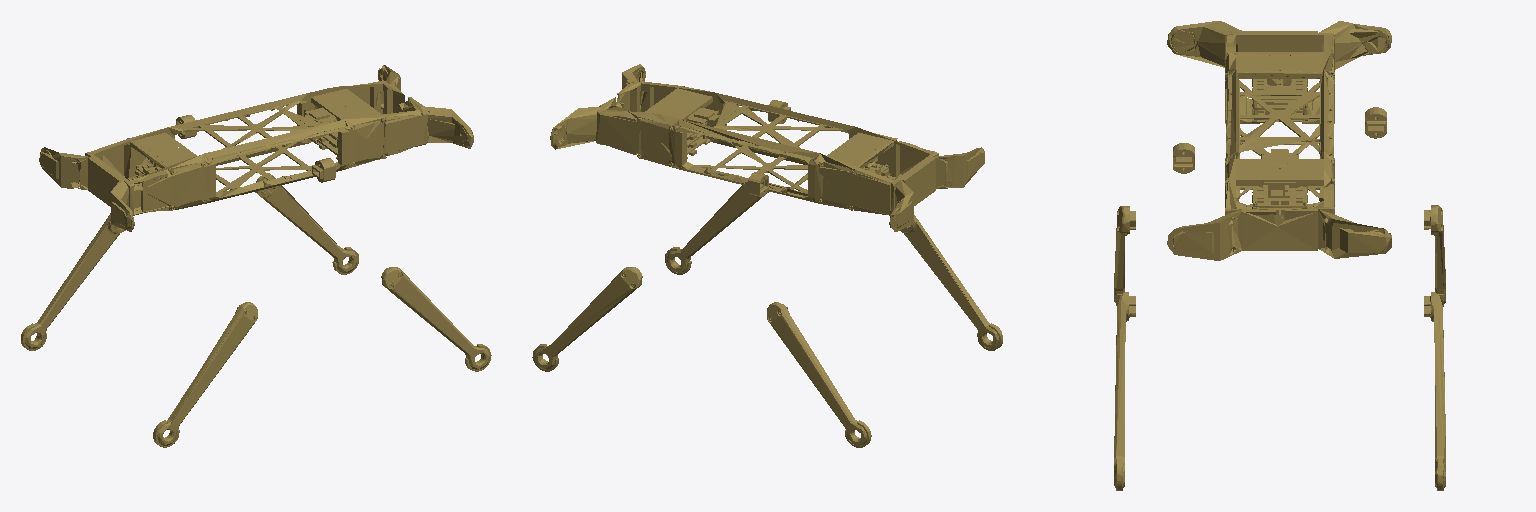
The robot description file, URDF, robot "od":
<?xml version="1.0"?>
<!-- created with Phobos 1.0.1 "Capricious Choutengan" -->
  <robot name="od">

    <link name="link_hip_a">
      <inertial>
        <origin xyz="0 0 0" rpy="0 0 0"/>
        <mass value="0.15"/>
        <inertia ixx="4e-05" ixy="0" ixz="0" iyy="0.00041" iyz="0" izz="0.00041"/>
      </inertial>
      <visual name="visual_Hip_Fe_Module_A">
        <origin xyz="0 0 0" rpy="0 0 0"/>
        <geometry>
          <mesh filename="HipFeModuleA.dae" scale="1.0 1.0 1.0"/>
        </geometry>
        <material name="Material"/>
      </visual>
      <collision name="collision_hip_a">
        <origin xyz="0 0 0" rpy="0 0 0"/>
        <geometry>
          <box size="0.1759 0.0389 0.04438"/>
        </geometry>
      </collision>
    </link>

    <link name="link_hip_b">
      <inertial>
        <origin xyz="0 0 0" rpy="0 0 0"/>
        <mass value="0.15"/>
        <inertia ixx="4e-05" ixy="0" ixz="0" iyy="0.00053" iyz="0" izz="0.00052"/>
      </inertial>
      <visual name="visual_Hip_Adapter_B">
        <origin xyz="0 0 0" rpy="0 0 0"/>
        <geometry>
          <mesh filename="HipAdapterB.dae" scale="1.0 1.0 1.0"/>
        </geometry>
        <material name="Material"/>
      </visual>
      <visual name="visual_Hip_Fe_Module_B">
        <origin xyz="0 0 0" rpy="0 0 0"/>
        <geometry>
          <mesh filename="HipFeModuleB.dae" scale="1.0 1.0 1.0"/>
        </geometry>
        <material name="Material"/>
      </visual>
      <collision name="Hip Fe Module B">
        <origin xyz="0 0 0" rpy="0 0 0"/>
        <geometry>
          <box size="0.201 0.0389 0.04438"/>
        </geometry>
      </collision>
    </link>

    <link name="link_hip_c">
      <inertial>
        <origin xyz="0 0 0" rpy="0 0 0"/>
        <mass value="0.15"/>
        <inertia ixx="4e-05" ixy="0" ixz="0" iyy="0.00053" iyz="0" izz="0.00052"/>
      </inertial>
      <visual name="visual_HipFeModuleC">
        <origin xyz="0 0 0" rpy="0 0 0"/>
        <geometry>
          <mesh filename="HipFeModuleC.dae" scale="1.0 1.0 1.0"/>
        </geometry>
        <material name="Material"/>
      </visual>
      <visual name="visual_Hip_Adapter_C">
        <origin xyz="0 0 0" rpy="0 0 0"/>
        <geometry>
          <mesh filename="HipAdapterC.dae" scale="1.0 1.0 1.0"/>
        </geometry>
        <material name="Material"/>
      </visual>
      <collision name="Hip Fe Module B">
        <origin xyz="0 0 0" rpy="0 0 0"/>
        <geometry>
          <box size="0.201 0.0389 0.04438"/>
        </geometry>
      </collision>
    </link>

    <link name="link_hip_d">
      <inertial>
        <origin xyz="0 0 0" rpy="0 0 0"/>
        <mass value="0.15"/>
        <inertia ixx="4e-05" ixy="0" ixz="0" iyy="0.00041" iyz="0" izz="0.00041"/>
      </inertial>
      <visual name="visual_Hip_Fe_Module_D">
        <origin xyz="0 0 0" rpy="0 0 0"/>
        <geometry>
          <mesh filename="HipFeModuleD.dae" scale="1.0 1.0 1.0"/>
        </geometry>
        <material name="Material"/>
      </visual>
      <collision name="Hip Fe Module A">
        <origin xyz="0 0 0" rpy="0 0 0"/>
        <geometry>
          <box size="0.1759 0.0389 0.04438"/>
        </geometry>
      </collision>
    </link>

    <link name="link_l_leg_a">
      <inertial>
        <origin xyz="0 0 0" rpy="0 0 0"/>
        <mass value="0.02"/>
        <inertia ixx="4e-05" ixy="0" ixz="0" iyy="6e-05" iyz="0" izz="3e-05"/>
      </inertial>
      <visual name="visual_Lower_Leg_A">
        <origin xyz="0.09277 0.14695 0.12354" rpy="0 0 0"/>
        <geometry>
          <mesh filename="visual_Lower_Leg_A.dae" scale="1.0 1.0 1.0"/>
        </geometry>
        <material name="Material"/>
      </visual>
      <collision name="collision_Cyl_link_l_leg_a">
        <origin xyz="0 0 0" rpy="0 0 0"/>
        <geometry>
          <cylinder radius="0.0165" length="0.033"/>
        </geometry>
      </collision>
      <collision name="collision_Lower_Leg">
        <origin xyz="0.09277 0.14695 0.12354" rpy="0 0 0"/>
        <geometry>
          <mesh filename="col_Lower_Leg_A.dae" scale="1.0 1.0 1.0"/>
        </geometry>
      </collision>
    </link>

    <link name="link_l_leg_b">
      <inertial>
        <origin xyz="0 0 0" rpy="0 0 0"/>
        <mass value="0.02"/>
        <inertia ixx="4e-05" ixy="0" ixz="0" iyy="6e-05" iyz="0" izz="3e-05"/>
      </inertial>
      <visual name="visual_Lower_Leg_B">
        <origin xyz="0 0 0" rpy="0 0 0"/>
        <geometry>
          <mesh filename="LowerLegB.dae" scale="1.0 1.0 1.0"/>
        </geometry>
        <material name="Material"/>
      </visual>
      <collision name="Cylinder">
        <origin xyz="0 0 0" rpy="0 0 0"/>
        <geometry>
          <cylinder radius="0.0165" length="0.033"/>
        </geometry>
      </collision>
      <collision name="collision_Lower_Leg_B">
        <origin xyz="0 0 0" rpy="0 0 0"/>
        <geometry>
          <mesh filename="col_LowerLegB.dae" scale="1.0 1.0 1.0"/>
        </geometry>
      </collision>
    </link>

    <link name="link_l_leg_c">
      <inertial>
        <origin xyz="0 0 0" rpy="0 0 0"/>
        <mass value="0.02"/>
        <inertia ixx="4e-05" ixy="0" ixz="0" iyy="6e-05" iyz="0" izz="3e-05"/>
      </inertial>
      <visual name="visual_Lower_Leg_C">
        <origin xyz="0 0 0" rpy="0 0 0"/>
        <geometry>
          <mesh filename="LowerLegC.dae" scale="1.0 1.0 1.0"/>
        </geometry>
        <material name="Material"/>
      </visual>
      <collision name="collision_Cylinder.003">
        <origin xyz="0 0 0" rpy="0 0 0"/>
        <geometry>
          <cylinder radius="0.0165" length="0.033"/>
        </geometry>
      </collision>
      <collision name="collision_Lower_Leg_C">
        <origin xyz="0 0 0" rpy="0 0 0"/>
        <geometry>
          <mesh filename="col_LowerLegC.dae" scale="1.0 1.0 1.0"/>
        </geometry>
      </collision>
    </link>

    <link name="link_l_leg_d">
      <inertial>
        <origin xyz="0 0 0" rpy="0 0 0"/>
        <mass value="0.02"/>
        <inertia ixx="4e-05" ixy="0" ixz="0" iyy="6e-05" iyz="0" izz="3e-05"/>
      </inertial>
      <visual name="visual_Lower_Leg_D">
        <origin xyz="0 0 0" rpy="0 0 0"/>
        <geometry>
          <mesh filename="LowerLegD.dae" scale="1.0 1.0 1.0"/>
        </geometry>
        <material name="Material"/>
      </visual>
      <collision name="Cylinder.001">
        <origin xyz="0 0 0" rpy="0 0 0"/>
        <geometry>
          <cylinder radius="0.0165" length="0.033"/>
        </geometry>
      </collision>
      <collision name="collision_Lower_Leg_D">
        <origin xyz="0 0 0" rpy="0 0 0"/>
        <geometry>
          <mesh filename="col_LowerLegD.dae" scale="1.0 1.0 1.0"/>
        </geometry>
      </collision>
    </link>

    <link name="link_root">
      <inertial>
        <origin xyz="0 0 0.3" rpy="0 0 0"/>
        <mass value="1.2"/>
        <inertia ixx="0.00125" ixy="0" ixz="0" iyy="0.01546" iyz="0" izz="0.01621"/>
      </inertial>
      <visual name="visual_Body_Structure">
        <origin xyz="0 0 0.3" rpy="0 0 0"/>
        <geometry>
          <mesh filename="Body_Structure.dae" scale="1.0 1.0 1.0"/>
        </geometry>
        <material name="Material"/>
      </visual>
      <visual name="visual_Hip_Aa_Module_A">
        <origin xyz="0 0 0.3" rpy="0 0 0"/>
        <geometry>
          <mesh filename="HipAaModuleA.dae" scale="1.0 1.0 1.0"/>
        </geometry>
        <material name="Material"/>
      </visual>
      <visual name="visual_Hip_Aa_Module_B">
        <origin xyz="0 0 0.3" rpy="0 0 0"/>
        <geometry>
          <mesh filename="HipAaModuleB.dae" scale="1.0 1.0 1.0"/>
        </geometry>
        <material name="Material"/>
      </visual>
      <visual name="visual_Hip_Aa_Module_C">
        <origin xyz="0 0 0.3" rpy="0 0 0"/>
        <geometry>
          <mesh filename="HipAaModuleC.dae" scale="1.0 1.0 1.0"/>
        </geometry>
        <material name="Material"/>
      </visual>
      <visual name="visual_Hip_Aa_Module_D">
        <origin xyz="0 0 0.3" rpy="0 0 0"/>
        <geometry>
          <mesh filename="HipAaModuleD.dae" scale="1.0 1.0 1.0"/>
        </geometry>
        <material name="Material"/>
      </visual>
      <collision name="collision_root">
        <origin xyz="0 0 0.3" rpy="0 0 0"/>
        <geometry>
          <box size="0.39 0.1 0.05"/>
        </geometry>
      </collision>
      <collision name="collision_root_0">
        <origin xyz="0 0 0.3" rpy="0 0 0"/>
        <geometry>
          <box size="0.01 0.04 0.04"/>
        </geometry>
      </collision>
      <collision name="collision_root_1">
        <origin xyz="0 0 0.3" rpy="0 0 0"/>
        <geometry>
          <box size="0.01 0.04 0.04"/>
        </geometry>
      </collision>
      <collision name="collision_root_2">
        <origin xyz="0 0 0.3" rpy="0 0 0"/>
        <geometry>
          <box size="0.01 0.04 0.04"/>
        </geometry>
      </collision>
      <collision name="collision_root_3">
        <origin xyz="0 0 0.3" rpy="0 0 0"/>
        <geometry>
          <box size="0.01 0.04 0.04"/>
        </geometry>
      </collision>
    </link>

    <link name="link_u_leg_a">
      <inertial>
        <origin xyz="0 0 0" rpy="0 0 0"/>
        <mass value="0.15"/>
        <inertia ixx="0.00015" ixy="0" ixz="0.00011" iyy="0.00025" iyz="0" izz="0.00011"/>
      </inertial>
      <visual name="visual_Upper_Leg_Module_A">
        <origin xyz="0 0 0" rpy="0 0 0"/>
        <geometry>
          <mesh filename="UpperLegModuleA.dae" scale="1.0 1.0 1.0"/>
        </geometry>
        <material name="Material"/>
      </visual>
      <collision name="Upper Leg Module">
        <origin xyz="0 0 0" rpy="0 0 0"/>
        <geometry>
          <box size="0.11331 0.014 0.12771"/>
        </geometry>
      </collision>
      <collision name="collision_Cylinder.001">
        <origin xyz="0 -0.001 0" rpy="0 0 0"/>
        <geometry>
          <cylinder radius="0.0175" length="0.035"/>
        </geometry>
      </collision>
      <collision name="collision_cyl_a">
        <origin xyz="0 0.001 0" rpy="0 0 0"/>
        <geometry>
          <cylinder radius="0.0175" length="0.035"/>
        </geometry>
      </collision>
    </link>

    <link name="link_u_leg_b">
      <inertial>
        <origin xyz="0 0 0" rpy="0 0 0"/>
        <mass value="0.15"/>
        <inertia ixx="0.00015" ixy="0" ixz="0.00011" iyy="0.00025" iyz="0" izz="0.00011"/>
      </inertial>
      <visual name="visual_upper_leg_b">
        <origin xyz="0 0 0" rpy="0 0 0"/>
        <geometry>
          <mesh filename="UpperLegModuleB.dae" scale="1.0 1.0 1.0"/>
        </geometry>
        <material name="Material"/>
      </visual>
      <collision name="Upper Leg Module">
        <origin xyz="0 0 0" rpy="0 0 0"/>
        <geometry>
          <box size="0.11331 0.014 0.12771"/>
        </geometry>
      </collision>
      <collision name="collision_Cylinder.006">
        <origin xyz="0 -0.001 0" rpy="0 0 0"/>
        <geometry>
          <cylinder radius="0.0175" length="0.035"/>
        </geometry>
      </collision>
      <collision name="collision_Cylinder.007">
        <origin xyz="0 0.001 0" rpy="0 0 0"/>
        <geometry>
          <cylinder radius="0.0175" length="0.035"/>
        </geometry>
      </collision>
    </link>

    <link name="link_u_leg_c">
      <inertial>
        <origin xyz="0 0 0" rpy="0 0 0"/>
        <mass value="0.15"/>
        <inertia ixx="0.00015" ixy="0" ixz="-0.00011" iyy="0.00025" iyz="0" izz="0.00011"/>
      </inertial>
      <visual name="visual_Upper_Leg_Module_C">
        <origin xyz="0 0 0" rpy="0 0 0"/>
        <geometry>
          <mesh filename="UpperLegModuleC.dae" scale="1.0 1.0 1.0"/>
        </geometry>
        <material name="Material"/>
      </visual>
      <collision name="Upper Leg Module">
        <origin xyz="0 0 0" rpy="0 0 0"/>
        <geometry>
          <box size="0.11331 0.014 0.12771"/>
        </geometry>
      </collision>
      <collision name="collision_Cylinder.008">
        <origin xyz="0 -0.006 0" rpy="0 0 0"/>
        <geometry>
          <cylinder radius="0.0175" length="0.035"/>
        </geometry>
      </collision>
      <collision name="collision_Cylinder.009">
        <origin xyz="0 0 0" rpy="0 0 0"/>
        <geometry>
          <cylinder radius="0.0175" length="0.035"/>
        </geometry>
      </collision>
    </link>

    <link name="link_u_leg_d">
      <inertial>
        <origin xyz="0.00016 0.00015 9e-05" rpy="0 0 0"/>
        <mass value="0.15"/>
        <inertia ixx="0.00015" ixy="0" ixz="-0.00011" iyy="0.00025" iyz="0" izz="0.00011"/>
      </inertial>
      <visual name="visual_Upper_Leg_Module_D">
        <origin xyz="0.00016 0.00015 9e-05" rpy="0 0 0"/>
        <geometry>
          <mesh filename="UpperLegModuleD.dae" scale="1.0 1.0 1.0"/>
        </geometry>
        <material name="Material"/>
      </visual>
      <collision name="Upper Leg Module">
        <origin xyz="0.00016 0.00015 9e-05" rpy="0 0 0"/>
        <geometry>
          <box size="0.11331 0.014 0.12771"/>
        </geometry>
      </collision>
      <collision name="collision_Cylinder.010">
        <origin xyz="0.00016 0 9e-05" rpy="0 0 0"/>
        <geometry>
          <cylinder radius="0.0175" length="0.035"/>
        </geometry>
      </collision>
      <collision name="collision_Cylinder.011">
        <origin xyz="0.00016 0.002 9e-05" rpy="0 0 0"/>
        <geometry>
          <cylinder radius="0.0175" length="0.035"/>
        </geometry>
      </collision>
    </link>

    <joint name="link_hip_a" type="revolute">
      <origin xyz="-0.1939 -0.09 0.3" rpy="0 0 0"/>
      <parent link="link_root"/>
      <child link="link_hip_a"/>
      <axis xyz="-1.0 0 0"/>
      <limit lower="-1.31" upper="2.443" effort="2.7" velocity="50.0"/>
    </joint>

    <joint name="link_hip_b" type="revolute">
      <origin xyz="-0.1939 0.09 0.3" rpy="0 0 0"/>
      <parent link="link_root"/>
      <child link="link_hip_b"/>
      <axis xyz="-1.0 0 0"/>
      <limit lower="-1.31" upper="2.443" effort="2.7" velocity="50.0"/>
    </joint>

    <joint name="link_hip_c" type="revolute">
      <origin xyz="0.1939 -0.09 0.3" rpy="0 0 0"/>
      <parent link="link_root"/>
      <child link="link_hip_c"/>
      <axis xyz="1.0 0 0"/>
      <limit lower="-1.31" upper="2.443" effort="2.7" velocity="50.0"/>
    </joint>

    <joint name="link_hip_d" type="revolute">
      <origin xyz="0.1939 0.09 0.3" rpy="0 0 0"/>
      <parent link="link_root"/>
      <child link="link_hip_d"/>
      <axis xyz="1.0 0 0"/>
      <limit lower="-1.31" upper="2.443" effort="2.7" velocity="50.0"/>
    </joint>

    <joint name="link_l_leg_a" type="revolute">
      <origin xyz="0.10112 -0.05695 -0.12354" rpy="0 0 0"/>
      <parent link="link_u_leg_a"/>
      <child link="link_l_leg_a"/>
      <axis xyz="0 -1.0 0"/>
      <limit lower="-6.3" upper="6.3" effort="2.7" velocity="50.0"/>
    </joint>

    <joint name="link_l_leg_b" type="revolute">
      <origin xyz="0.10112 0.05695 -0.12354" rpy="0 0 0"/>
      <parent link="link_u_leg_b"/>
      <child link="link_l_leg_b"/>
      <axis xyz="0 1.0 0"/>
      <limit lower="-6.3" upper="6.3" effort="2.7" velocity="50.0"/>
    </joint>

    <joint name="link_l_leg_c" type="revolute">
      <origin xyz="-0.10113 -0.05695 -0.12354" rpy="0 0 0"/>
      <parent link="link_u_leg_c"/>
      <child link="link_l_leg_c"/>
      <axis xyz="0 -1.0 0"/>
      <limit lower="-6.3" upper="6.3" effort="2.7" velocity="50.0"/>
    </joint>

    <joint name="link_l_leg_d" type="revolute">
      <origin xyz="-0.10112 0.05695 -0.12354" rpy="0 0 0"/>
      <parent link="link_u_leg_d"/>
      <child link="link_l_leg_d"/>
      <axis xyz="0 1.0 0"/>
      <limit lower="-1.31" upper="2.443" effort="2.7" velocity="50.0"/>
    </joint>

    <joint name="link_u_leg_a" type="revolute">
      <origin xyz="0 0 0" rpy="0 0 0"/>
      <parent link="link_hip_a"/>
      <child link="link_u_leg_a"/>
      <axis xyz="0 -1.0 0"/>
      <limit lower="-6.3" upper="6.3" effort="2.7" velocity="50.0"/>
    </joint>

    <joint name="link_u_leg_b" type="revolute">
      <origin xyz="0 0 0" rpy="0 0 0"/>
      <parent link="link_hip_b"/>
      <child link="link_u_leg_b"/>
      <axis xyz="0 1.0 0"/>
      <limit lower="-6.3" upper="6.3" effort="2.7" velocity="50.0"/>
    </joint>

    <joint name="link_u_leg_c" type="revolute">
      <origin xyz="0 0 0" rpy="0 0 0"/>
      <parent link="link_hip_c"/>
      <child link="link_u_leg_c"/>
      <axis xyz="0 -1.0 0"/>
      <limit lower="-6.3" upper="6.3" effort="2.7" velocity="50.0"/>
    </joint>

    <joint name="link_u_leg_d" type="revolute">
      <origin xyz="0 0 0" rpy="0 0 0"/>
      <parent link="link_hip_d"/>
      <child link="link_u_leg_d"/>
      <axis xyz="0 1.0 0"/>
      <limit lower="-6.3" upper="6.3" effort="2.7" velocity="50.0"/>
    </joint>

    <material name="Material">
      <color rgba="0.64 0.57001 0.34995 1.0"/>
    </material>

  </robot>

--- What the picture shows (computed from the rendered views, not written in the file) ---
3 views of the same robot in one strip: view 1: azimuth 30°, elevation 25°; view 2: azimuth 150°, elevation 25°; view 3: azimuth 270°, elevation 25° (orthographic).
Model od with 13 links and 12 joints (12 revolute), rooted at link_root, posed every joint at zero.
Links seen in each view (by area): view 1: link_root, link_l_leg_a, link_l_leg_c, link_l_leg_b, link_l_leg_d; view 2: link_root, link_l_leg_b, link_l_leg_d, link_l_leg_a, link_l_leg_c; view 3: link_root, link_l_leg_d, link_l_leg_c, link_l_leg_b, link_l_leg_a, link_hip_b, link_hip_c.
Link boxes in pixels (box(x1,y1,x2,y2)): link_root: box(39, 65, 473, 231); link_l_leg_a: box(153, 302, 257, 447); link_l_leg_c: box(381, 267, 491, 371); link_l_leg_b: box(21, 213, 125, 350); link_l_leg_d: box(255, 173, 358, 274); link_root: box(550, 64, 984, 231); link_l_leg_b: box(767, 302, 871, 447); link_l_leg_d: box(532, 267, 642, 371); link_l_leg_a: box(900, 215, 1002, 350); link_l_leg_c: box(665, 185, 768, 274); link_root: box(1167, 21, 1391, 260); link_l_leg_d: box(1424, 292, 1445, 490); link_l_leg_c: box(1114, 292, 1135, 490); link_l_leg_b: box(1424, 205, 1445, 306); link_l_leg_a: box(1114, 206, 1135, 305); link_hip_b: box(1365, 107, 1386, 138); link_hip_c: box(1173, 143, 1194, 173).
Bounding box of the posed robot: 0.4453 × 0.3039 × 0.2907 m (x, y, z).
Meshes: 19 distinct files referenced, 7 mesh visuals loaded (7 Collada DAE); not drawn: 12 (reference not matched to a file when rendering).